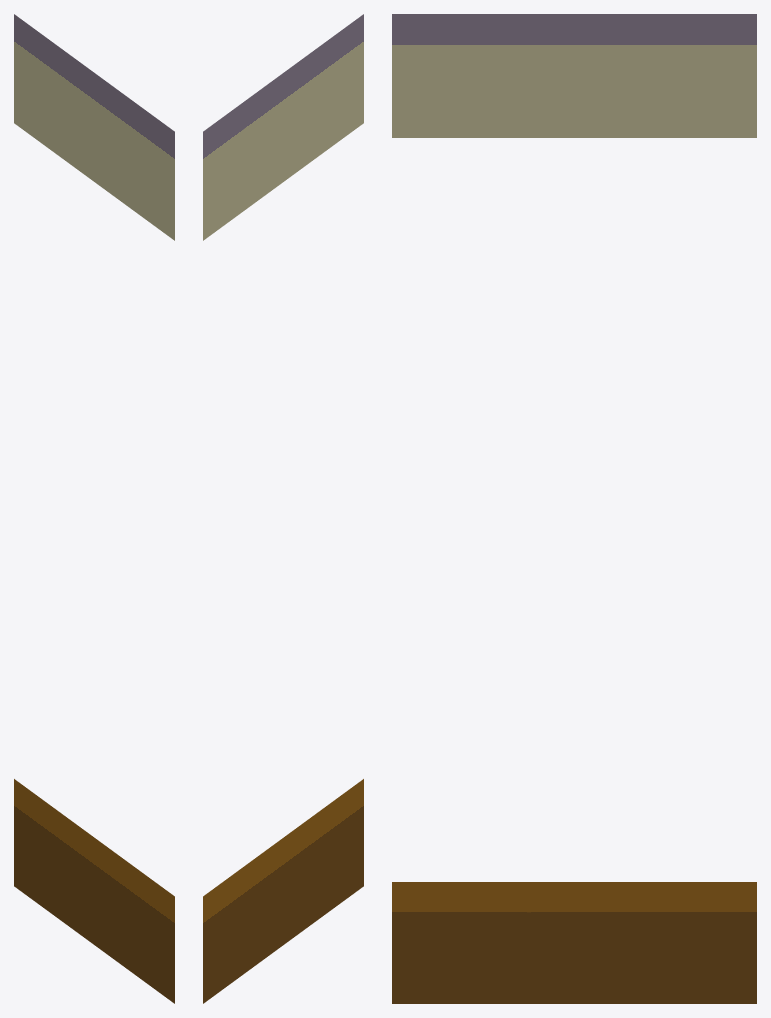
3 renders of one model, left to right at view 1: azimuth 30°, elevation 25°; view 2: azimuth 150°, elevation 25°; view 3: azimuth 270°, elevation 25°, orthographic. The views are drawn at different scales.
Size of the model in its own units: 0 by 2.99 by 1.
1 material, 1 textured.
